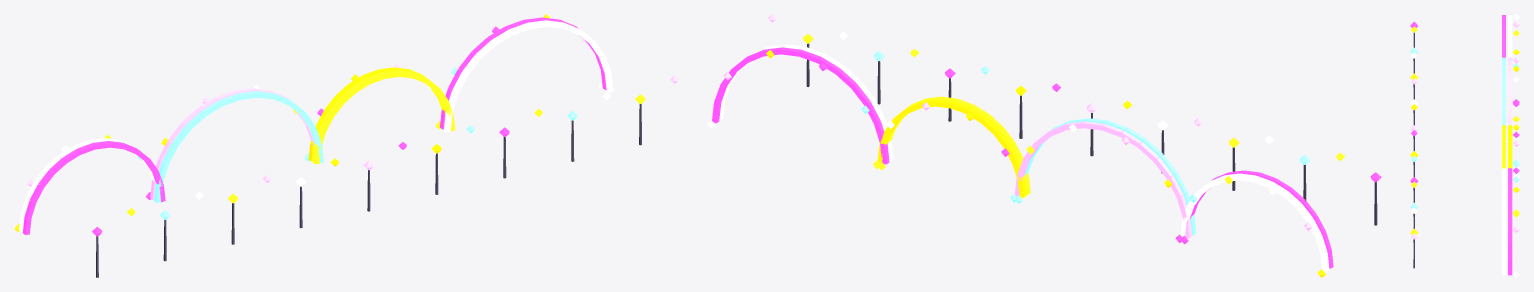
The model's file is W6_Mid_NeonArches.fbx.
The picture shows the model from 3 angles, left to right: view 1: azimuth 30°, elevation 25°; view 2: azimuth 150°, elevation 25°; view 3: azimuth 270°, elevation 25°; orthographic projection. The views are drawn at different scales.
Parts seen in each view (by area): view 1: W6_Mid_NeonArches; view 2: W6_Mid_NeonArches; view 3: W6_Mid_NeonArches.
Part boxes in pixels (bbox=[...]): W6_Mid_NeonArches: bbox=[14, 14, 678, 277]; W6_Mid_NeonArches: bbox=[707, 14, 1381, 277]; W6_Mid_NeonArches: bbox=[1410, 14, 1519, 277].
Bounding box in the file's own units: 132 × 19.49 × 26.95.
